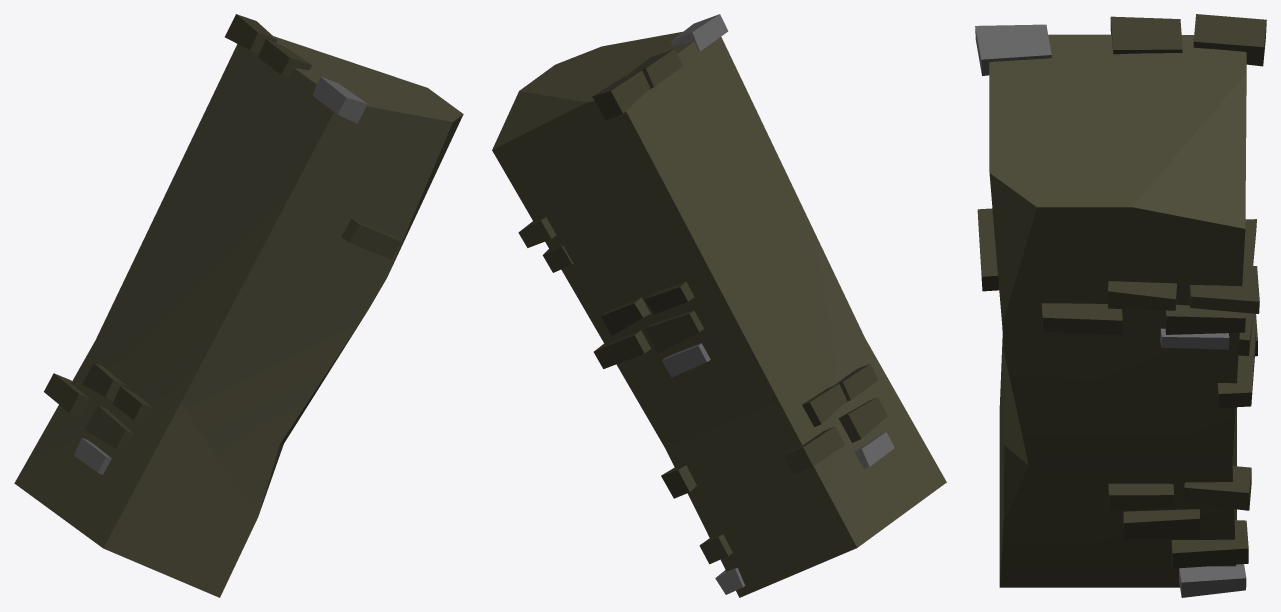
The model's file is ea_arch_wall03_rubble_01e_pre_1_lev1.glb.
3 views of the same model, side by side, from view 1: azimuth 30°, elevation 25°; view 2: azimuth 150°, elevation 25°; view 3: azimuth 270°, elevation 25° (orthographic). The views are drawn at different scales.
Visible parts, largest first — view 1: ea_arch_wall03_rubble_01e_pre_1_lev1; view 2: ea_arch_wall03_rubble_01e_pre_1_lev1; view 3: ea_arch_wall03_rubble_01e_pre_1_lev1.
Part boxes in pixels (x1,y1,x2,y2): ea_arch_wall03_rubble_01e_pre_1_lev1: (14, 14, 463, 597); ea_arch_wall03_rubble_01e_pre_1_lev1: (492, 14, 946, 597); ea_arch_wall03_rubble_01e_pre_1_lev1: (975, 14, 1266, 597).
Size of the model in its own units: 2.08 by 2.58 by 1.05.
Materials: 1 (1 with a texture image).
